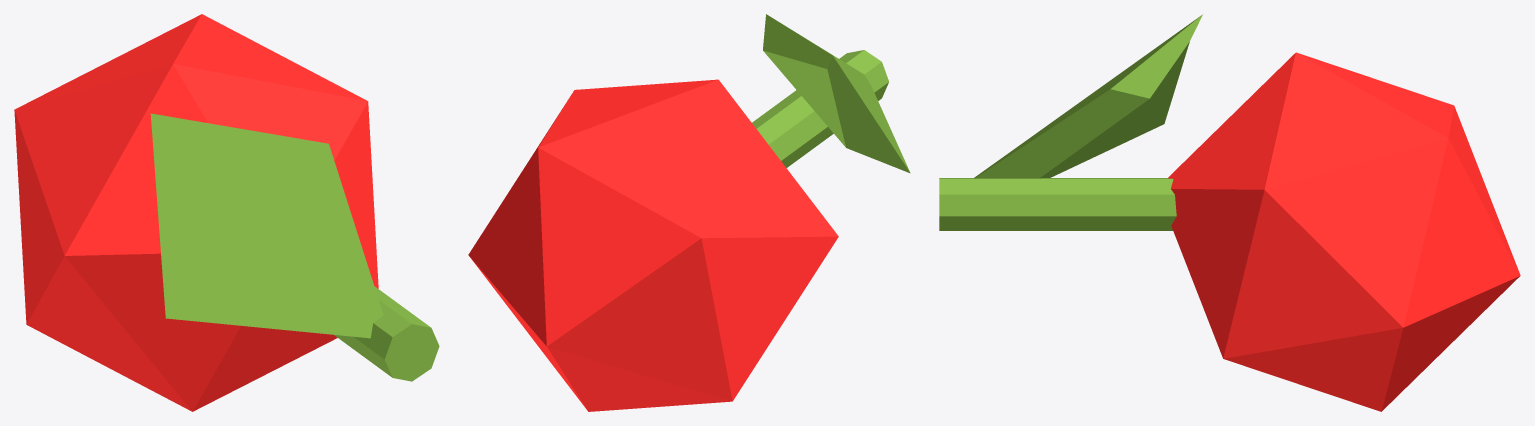
File: Flower_1.fbx
3 renders of one model, left to right at view 1: azimuth 30°, elevation 25°; view 2: azimuth 150°, elevation 25°; view 3: azimuth 270°, elevation 25°, orthographic. The views are drawn at different scales.
Visible parts, largest first — view 1: Flower_1; view 2: Flower_1; view 3: Flower_1.
Boxes of the visible parts, bbox=[...] form: Flower_1: bbox=[14, 14, 439, 411]; Flower_1: bbox=[468, 14, 910, 411]; Flower_1: bbox=[939, 14, 1520, 411].
Bounding box in the file's own units: 186 × 191 × 311.
